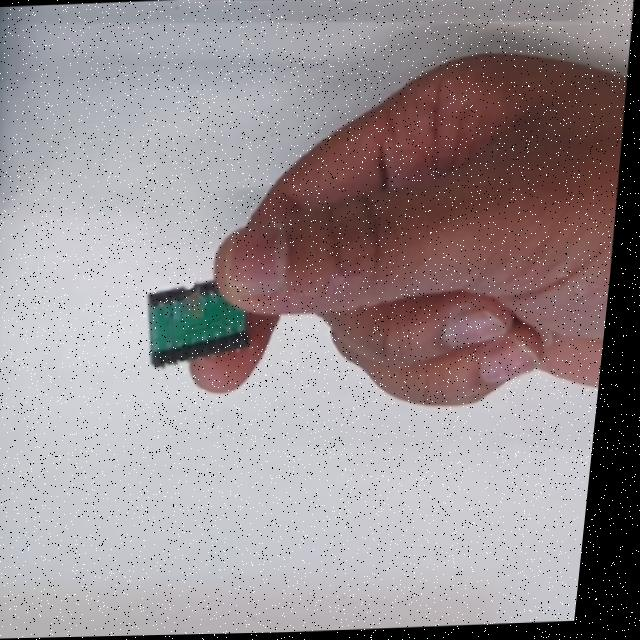Chip: (142, 277, 255, 367)
